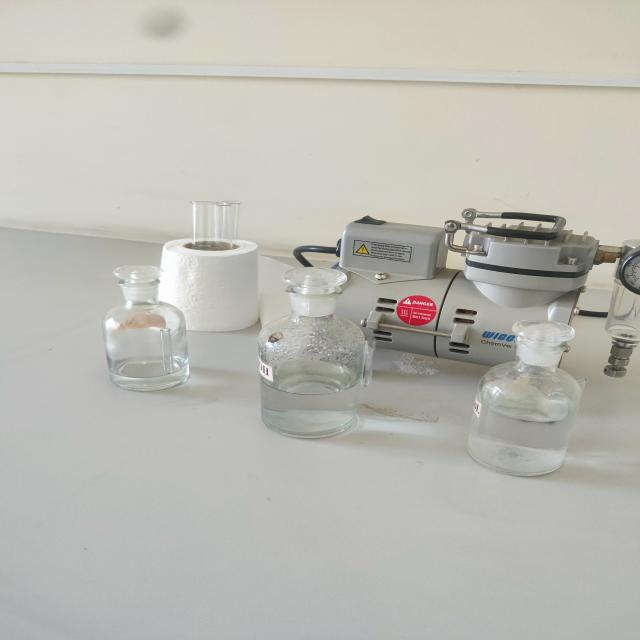Reagent_Bottle: (242, 248, 394, 461), (452, 299, 602, 490), (80, 248, 214, 404)
